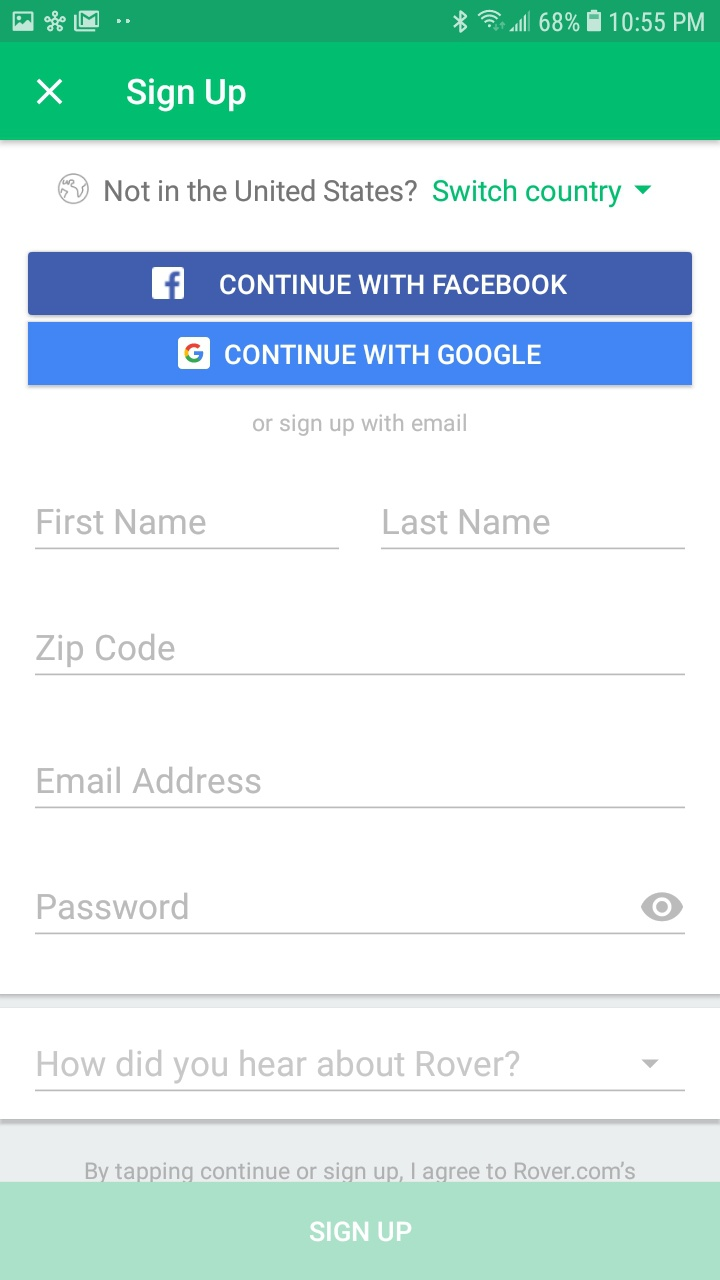EditText: (35, 1048, 685, 1092), (35, 892, 686, 935), (35, 766, 686, 809), (35, 633, 686, 676), (35, 509, 340, 550), (381, 509, 685, 550)
Icon: (640, 892, 684, 922), (151, 264, 184, 300), (37, 79, 64, 106), (641, 1058, 659, 1069), (634, 185, 652, 195)
Image: (58, 173, 90, 205)
Text: (38, 1048, 520, 1085), (105, 179, 622, 209), (86, 1161, 636, 1182), (38, 766, 262, 794), (253, 413, 467, 437), (36, 633, 175, 668), (38, 510, 206, 536), (384, 509, 551, 535), (39, 893, 190, 921), (127, 78, 247, 113)
TextButton: (1, 1182, 720, 1280), (29, 252, 692, 316), (29, 322, 692, 386)
UpperTaskBar: (1, 1, 720, 43)
